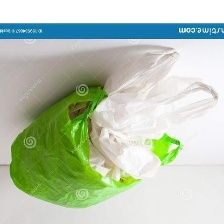plastic_bag: (4, 83, 188, 212), (83, 46, 222, 144), (85, 122, 166, 182)
